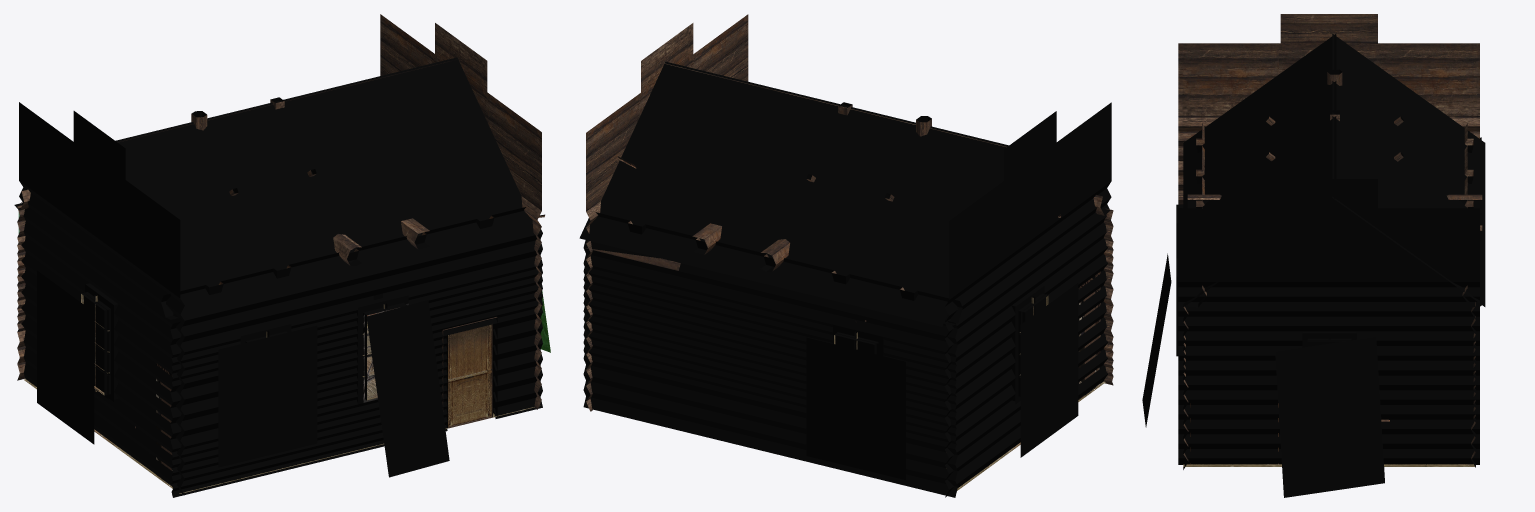
File: cozy_wooden_cabin.glb
3 renders of one model, left to right at view 1: azimuth 30°, elevation 25°; view 2: azimuth 150°, elevation 25°; view 3: azimuth 270°, elevation 25°, orthographic. The views are drawn at different scales.
Parts seen in each view (by area): view 1: Material2, Material3 (×4); view 2: Material2, Material3; view 3: Material2, Material3.
Boxes of the visible parts, x1,y1,x2,y2 form: Material2: (14, 57, 542, 497); Material3 (×4): (17, 14, 541, 455); Material2: (579, 61, 1111, 497); Material3: (585, 14, 1113, 411); Material2: (1142, 33, 1485, 497); Material3: (1178, 14, 1482, 461).
Size of the model in its own units: 415 by 281 by 321.
Materials: 26 (26 with a texture image).
